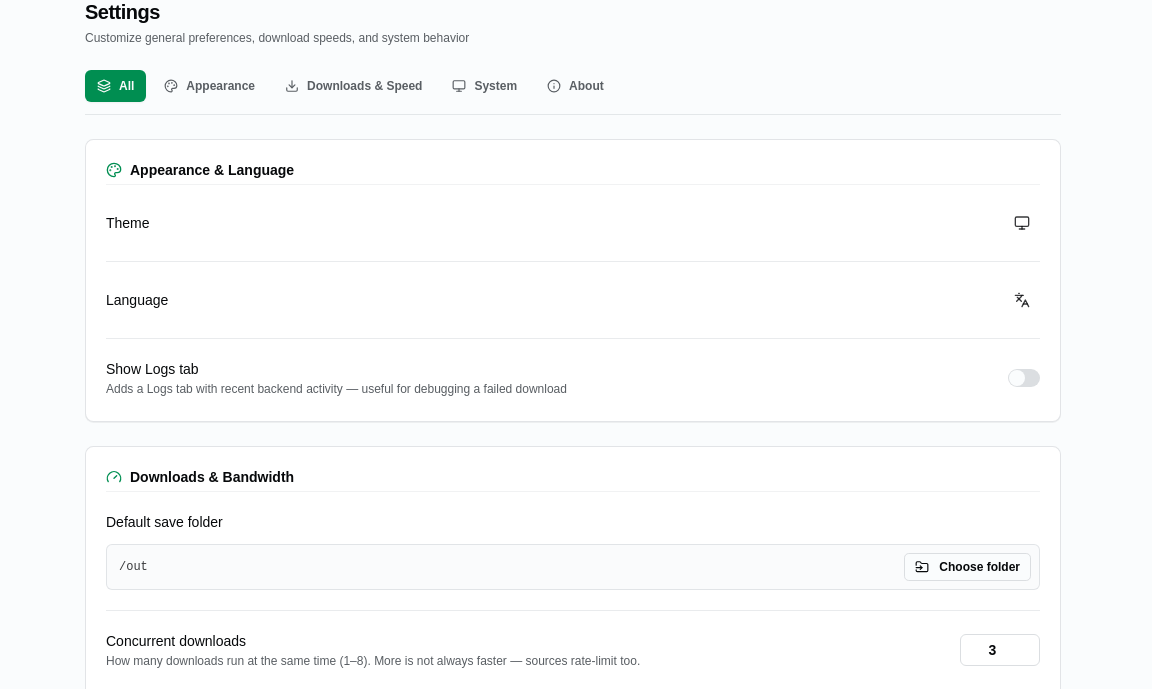
Test: Settings page — concurrency, rate limit, background mode (FR-112, FR-113, FR-126, FR-127) › clamps concurrency into 1–8 before sending it, and shows the clamped value
Replace the text in the number field showing "3" with "99" at {"x": 1000, "y": 650}, box [960,634,1040,666]
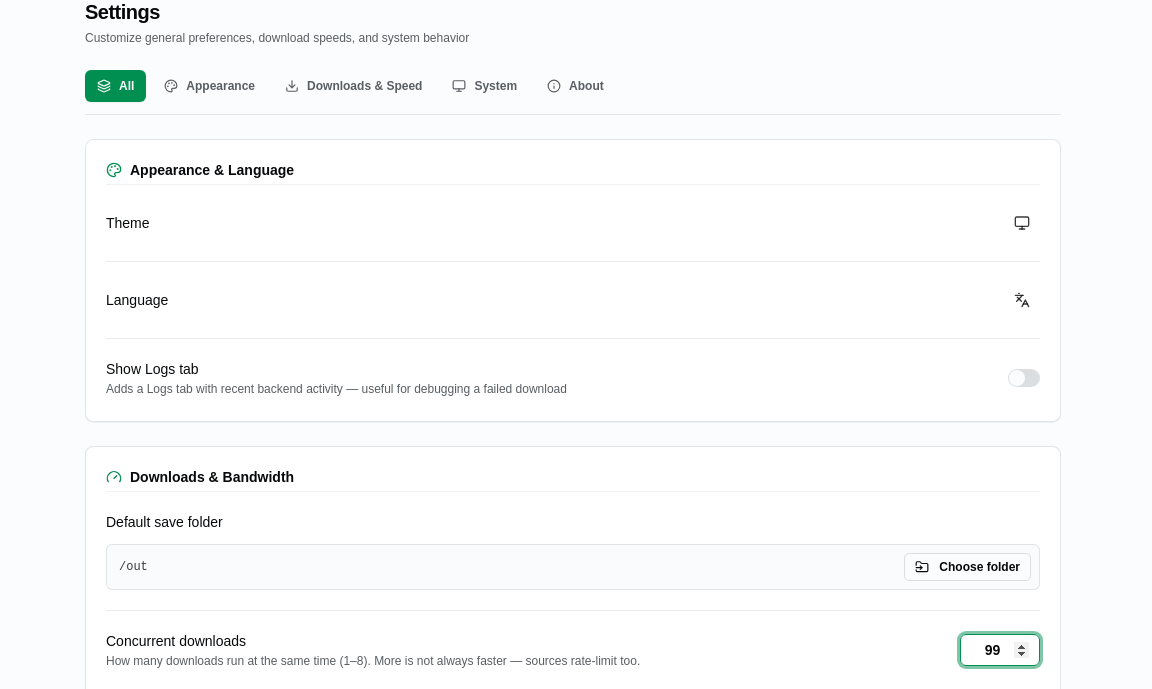
Press Tab
(page scrolled)
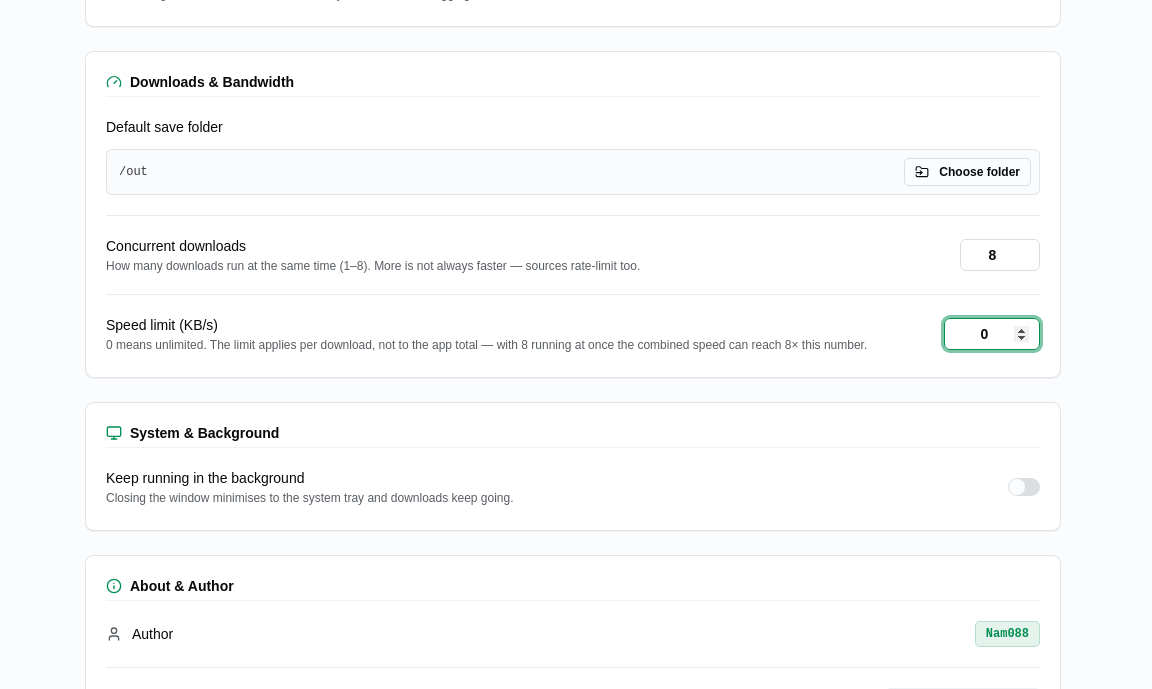
Now the number field showing "3" holds "8", box [960,239,1040,271]
